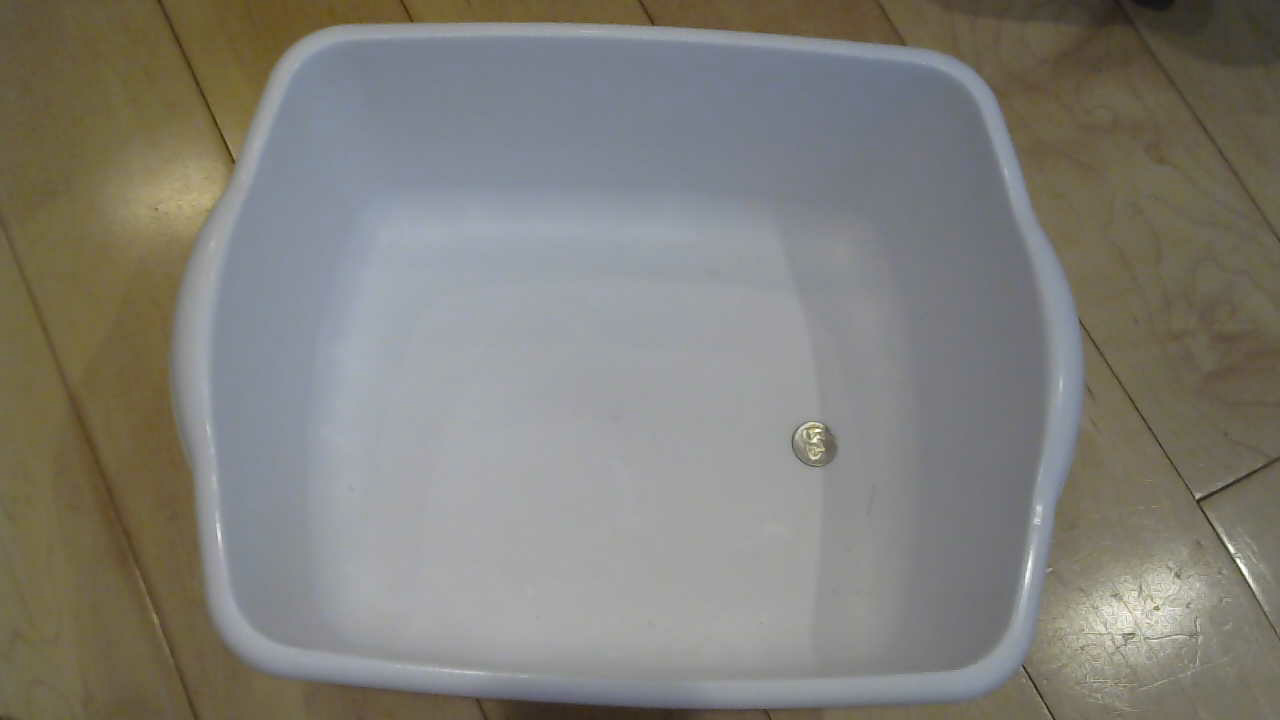coin: (787, 421, 851, 480)
